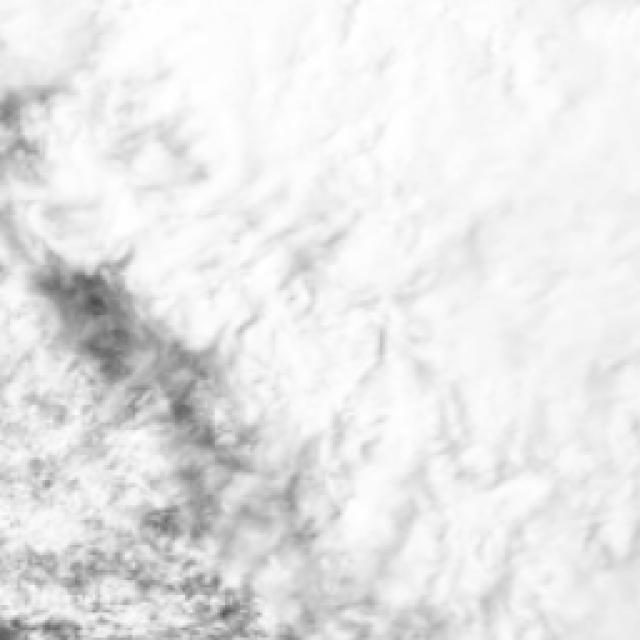CB: (252, 5, 640, 393), (456, 348, 640, 634), (173, 2, 330, 208)
